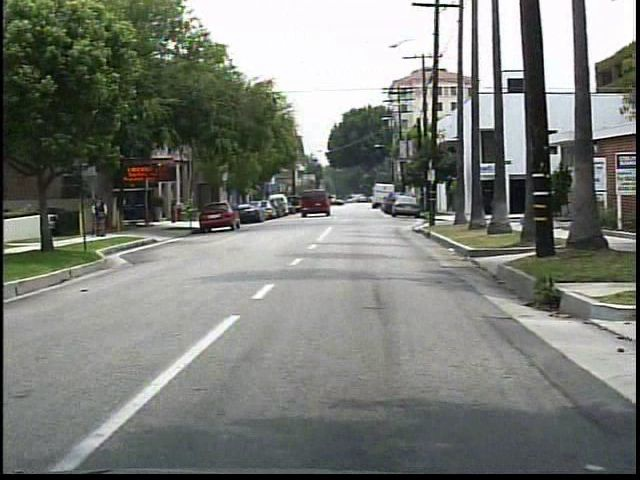person: (84, 192, 109, 240)
